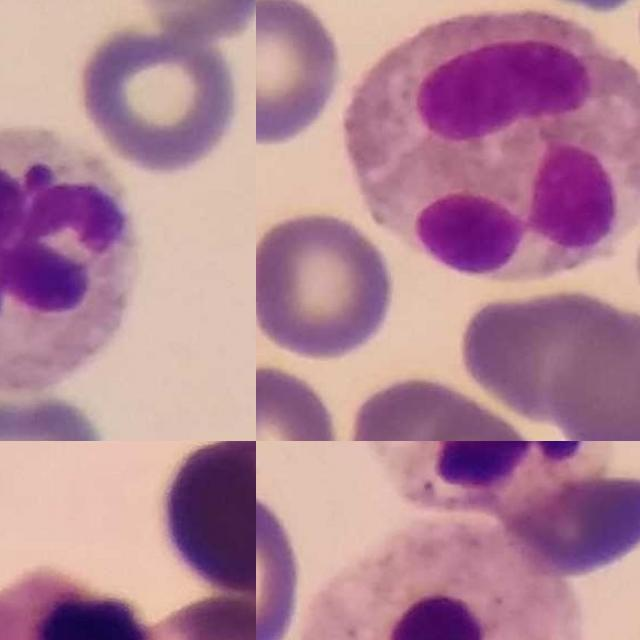Eosinophil: (344, 14, 640, 281)
Neutrophil: (0, 127, 139, 392), (309, 521, 578, 640), (346, 441, 613, 514), (0, 571, 161, 640)
